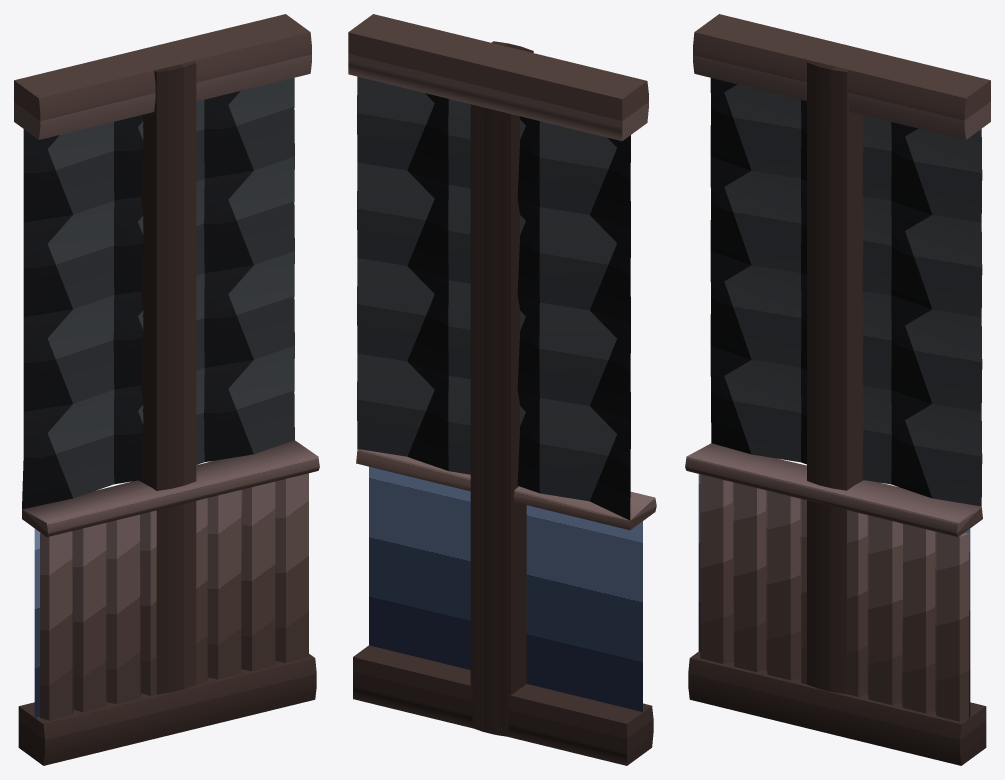
The model's file is wall_2.fbx.
3 views of the same model, side by side, from view 1: azimuth 30°, elevation 25°; view 2: azimuth 150°, elevation 25°; view 3: azimuth 330°, elevation 25° (orthographic).
Parts seen in each view (by area): view 1: wall_epic, wall_pile; view 2: wall_epic, wall_pile; view 3: wall_epic, wall_pile.
Part boxes in pixels (bbox=[...]): wall_epic: bbox=[14, 14, 319, 765]; wall_pile: bbox=[139, 61, 196, 694]; wall_epic: bbox=[348, 14, 656, 765]; wall_pile: bbox=[470, 41, 533, 736]; wall_epic: bbox=[685, 14, 990, 765]; wall_pile: bbox=[807, 60, 863, 694].
Bounding box in the file's own units: 511 × 1194 × 111.
